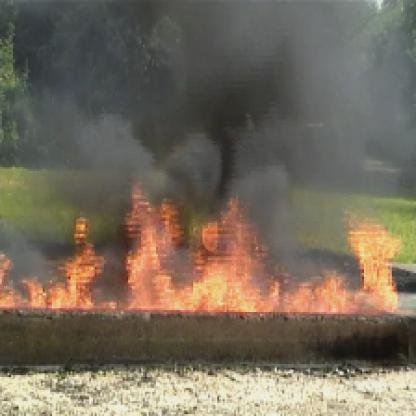Fire: (112, 176, 400, 316), (2, 206, 104, 312)
Smoke: (60, 2, 282, 202)
